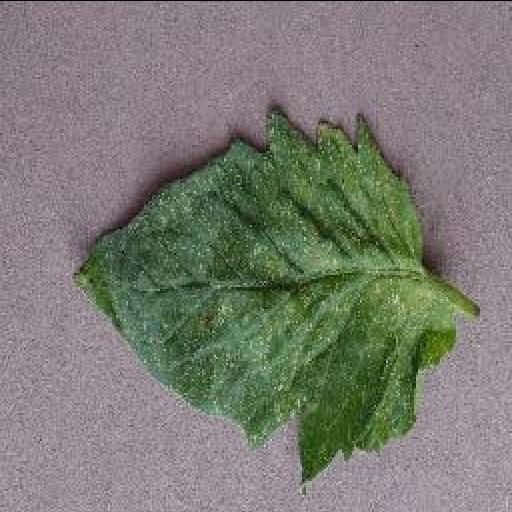disease_tomato: (70, 106, 458, 484)
